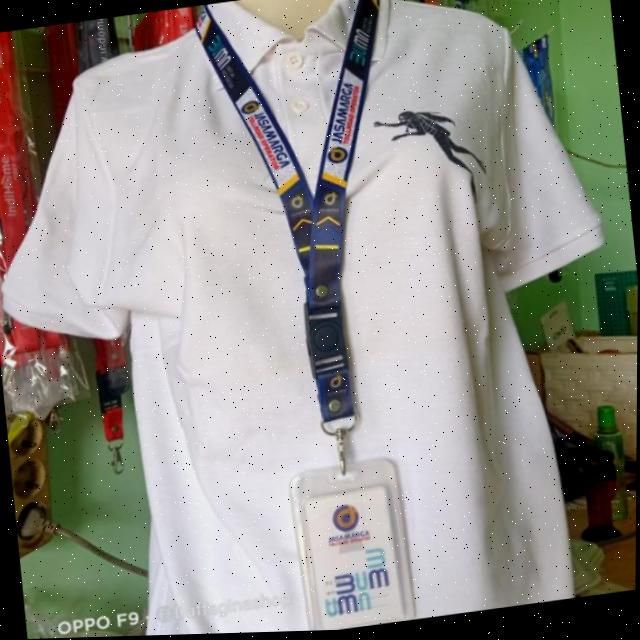id_card: (188, 0, 438, 636)
